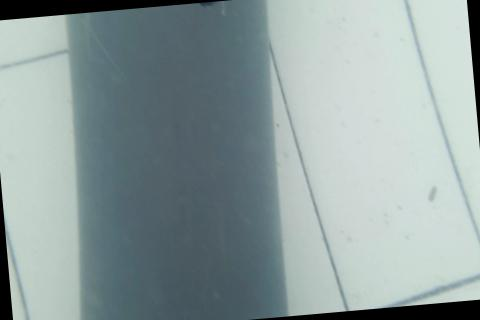kebocoran: (193, 0, 240, 8)
